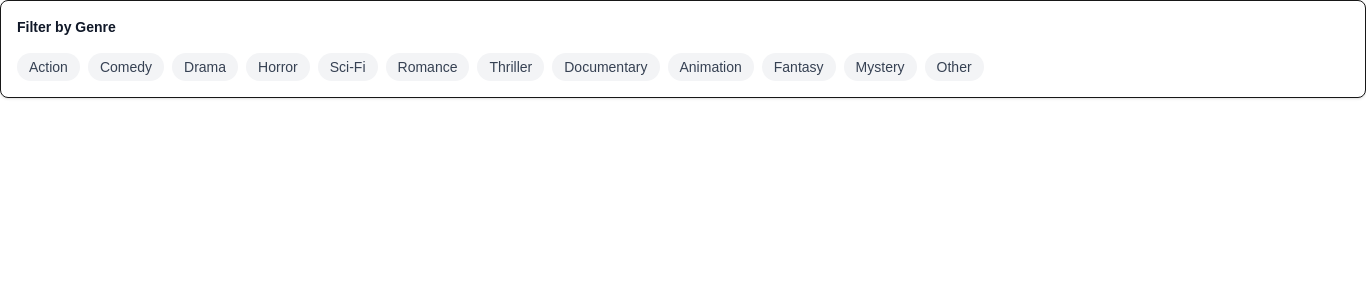
Test case: GenreFilter › should switch to advanced mode when clicking Advanced button
Click the button "Action".
click(48, 67)  # box x1=17 y1=53 x2=80 y2=81
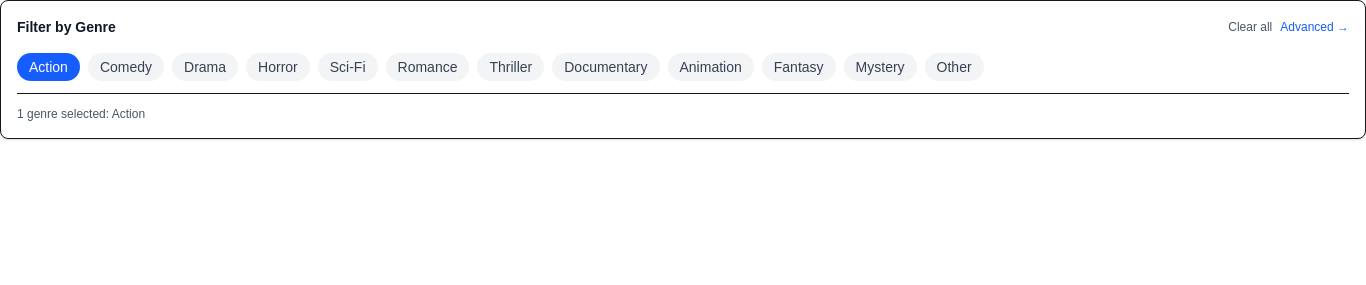
Click the button "Advanced →".
click(1315, 27)  # box x1=1280 y1=19 x2=1349 y2=35
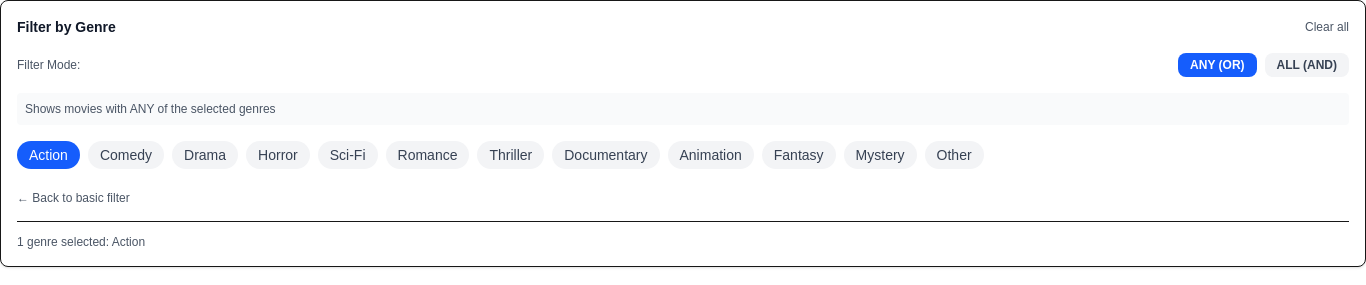
expect the button "ANY (OR)" is shown: met, box x1=1178 y1=53 x2=1257 y2=77
expect the button "ALL (AND)" is shown: met, box x1=1265 y1=53 x2=1349 y2=77
